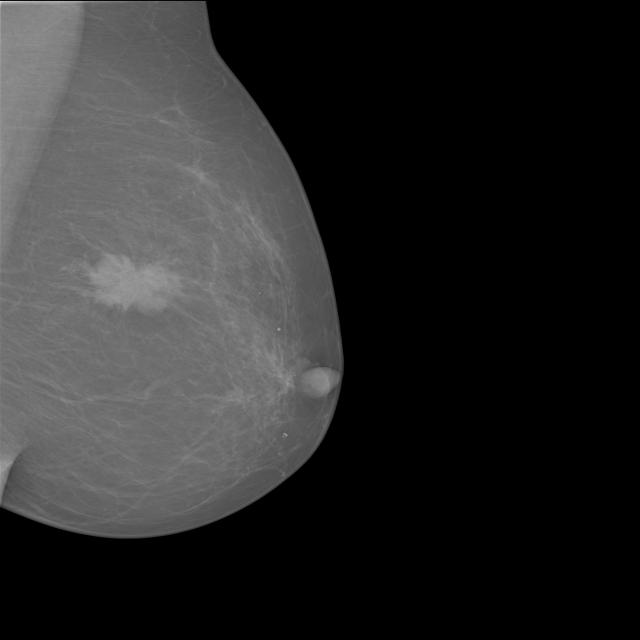Mass_1: (61, 230, 206, 342)
